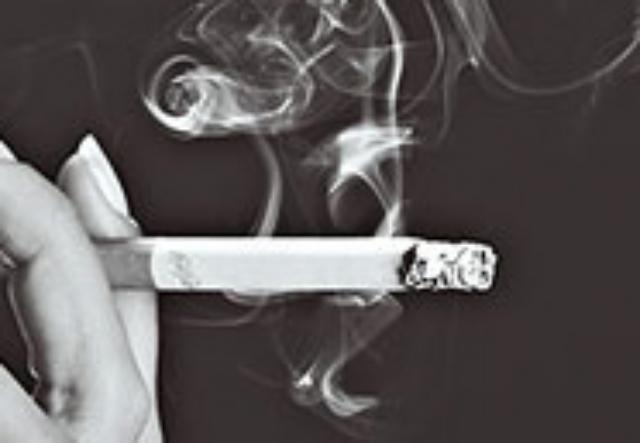Smoking: (15, 238, 498, 292)
